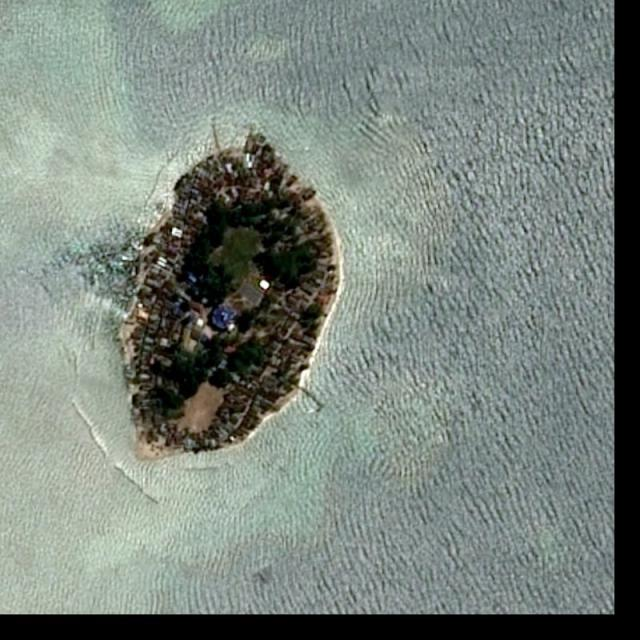ship: (305, 146, 312, 154)
